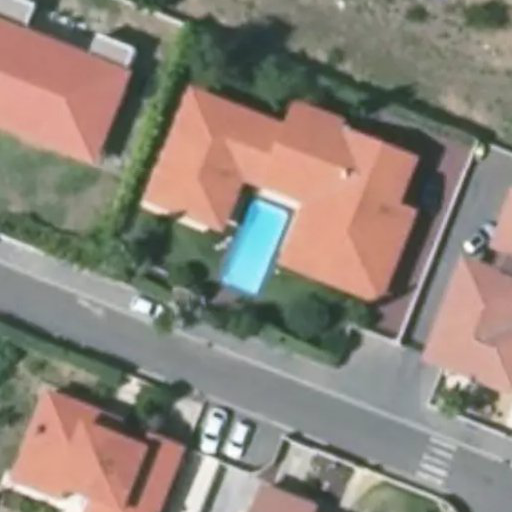pool: (220, 198, 288, 295)
